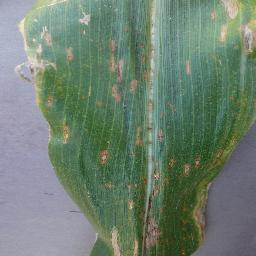Gray_Leaf_Spot: (18, 0, 155, 256), (155, 144, 246, 256), (210, 0, 256, 58), (225, 89, 256, 144), (158, 97, 177, 141), (182, 57, 194, 77)
